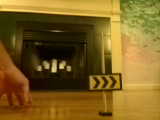right: (87, 74, 122, 90)
